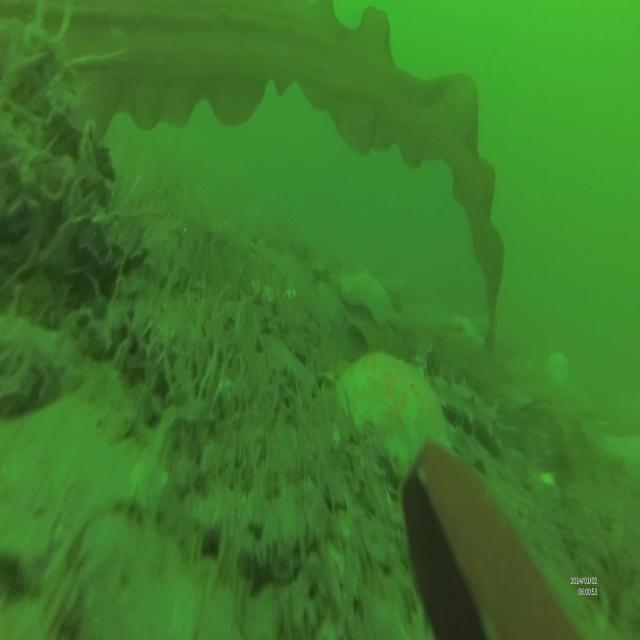holothurian: (421, 372, 498, 447)
starfish: (338, 352, 442, 469), (336, 267, 395, 329)
